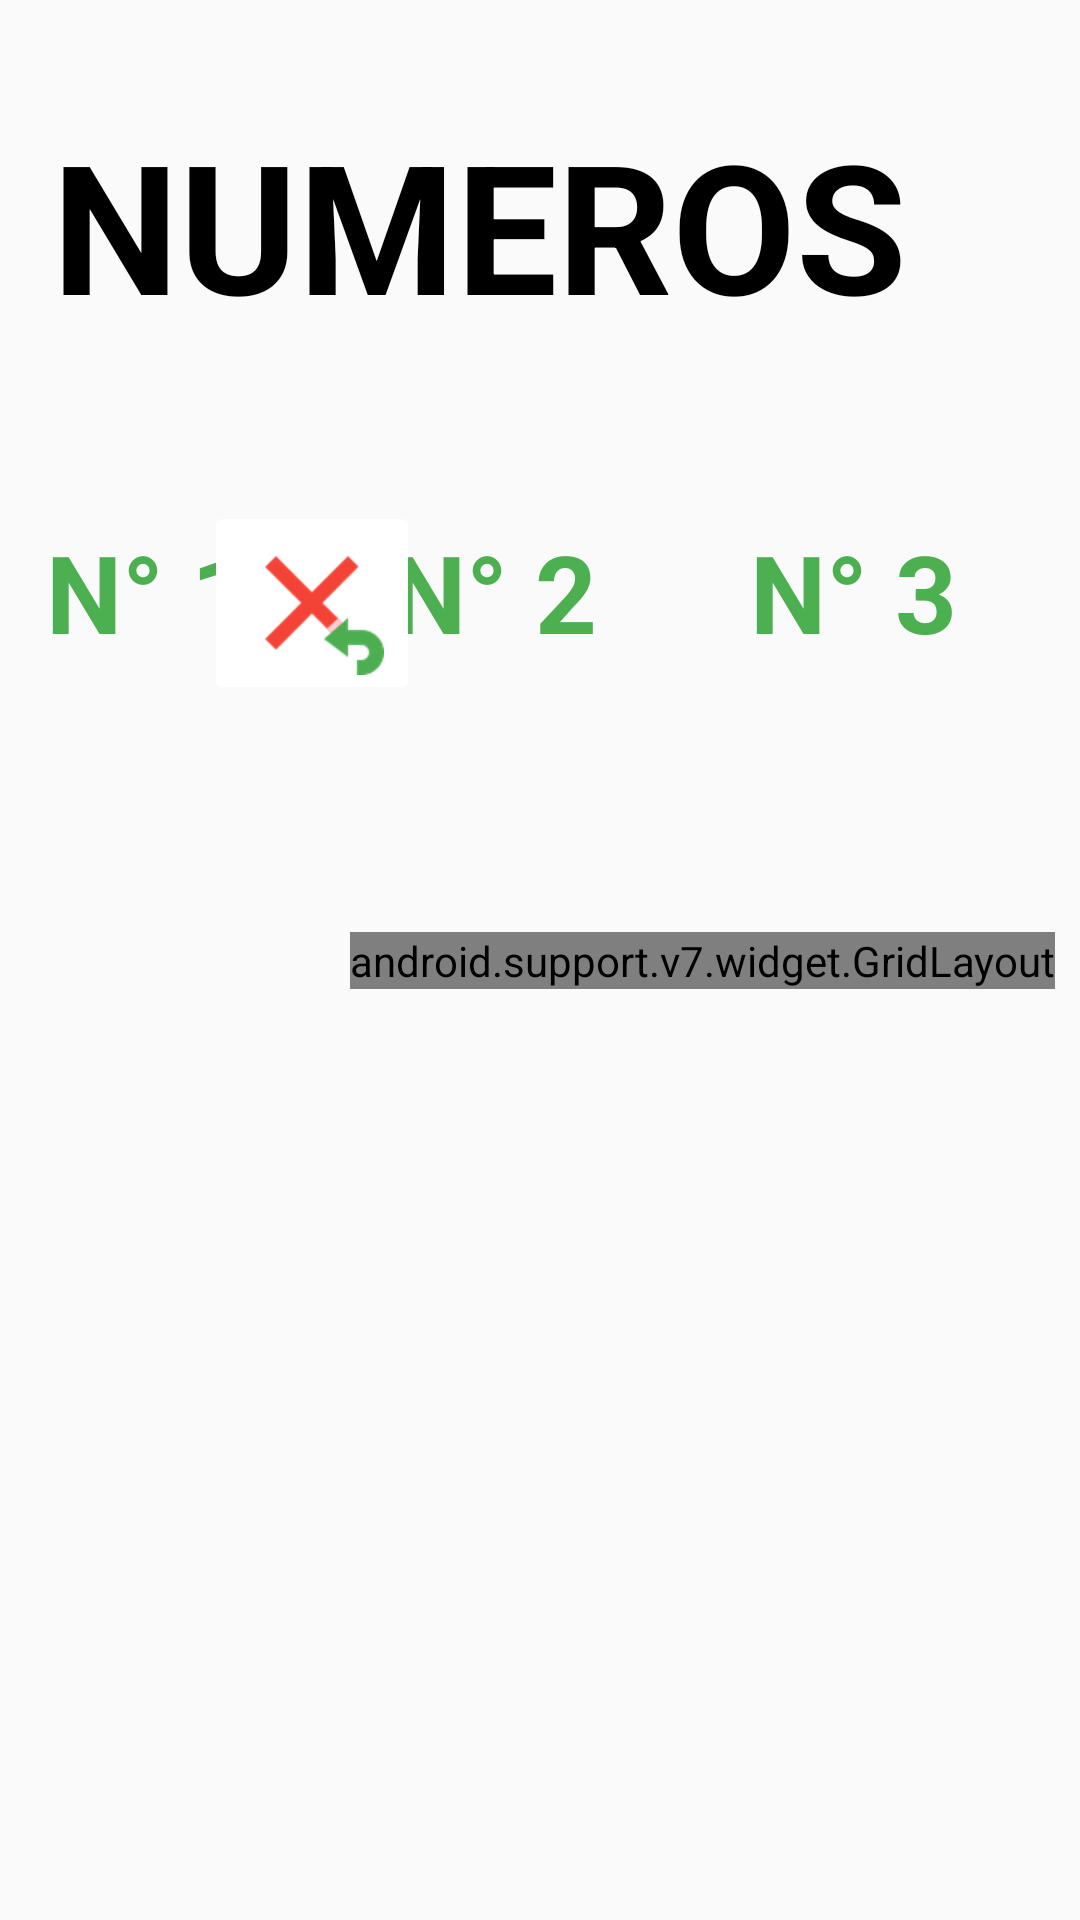

Icon bounding boxes for this 1080x1920 phone screenshot, format (x1, y1, x2, y2):
undelete: (204, 556, 384, 675)
